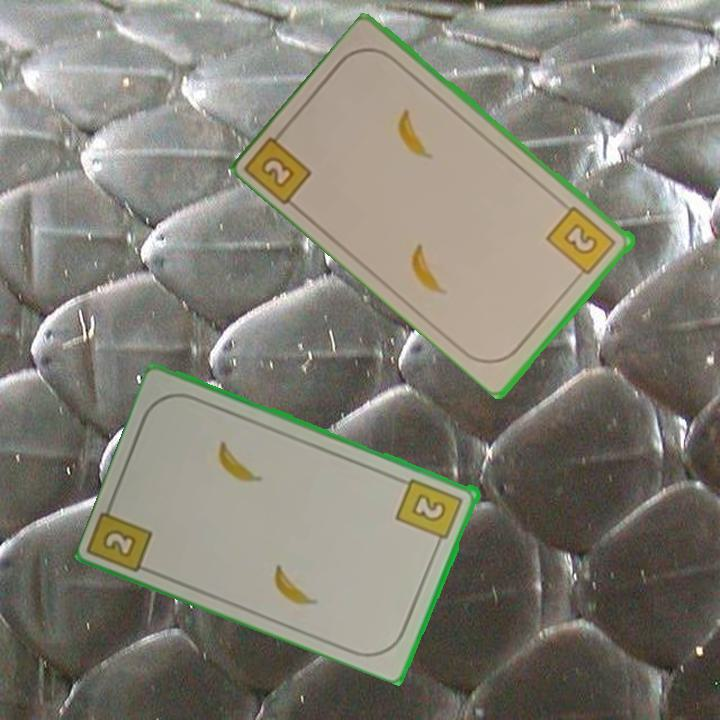2b: (543, 202, 620, 283), (244, 122, 316, 208), (393, 475, 466, 550), (99, 525, 140, 561)
